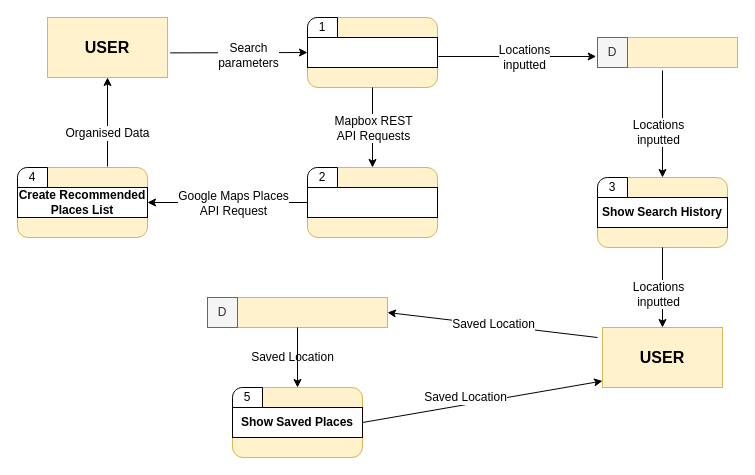
This 755x475 diagram has some shape labels left out. Here are the shapes that lost their labels. From the top down, the box of each, then its label:
(306, 36, 438, 68): Search For A Meeting Place
(596, 36, 738, 68): Firebase (History)
(306, 186, 438, 218): Generate Map
(206, 296, 388, 328): Firebase (Saved Places)
